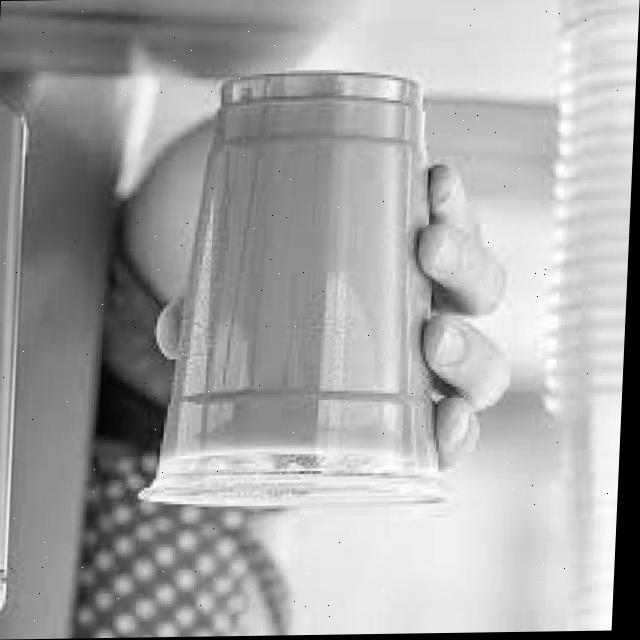cup: (125, 66, 490, 548)
